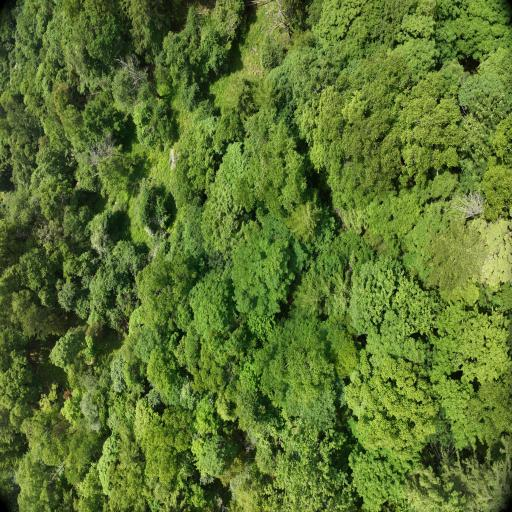dead-tree: (113, 50, 165, 104), (84, 130, 126, 178), (444, 185, 490, 224), (256, 4, 297, 46), (90, 71, 110, 97), (47, 462, 67, 487), (206, 392, 218, 406)
sick-tree: (59, 382, 77, 402)
